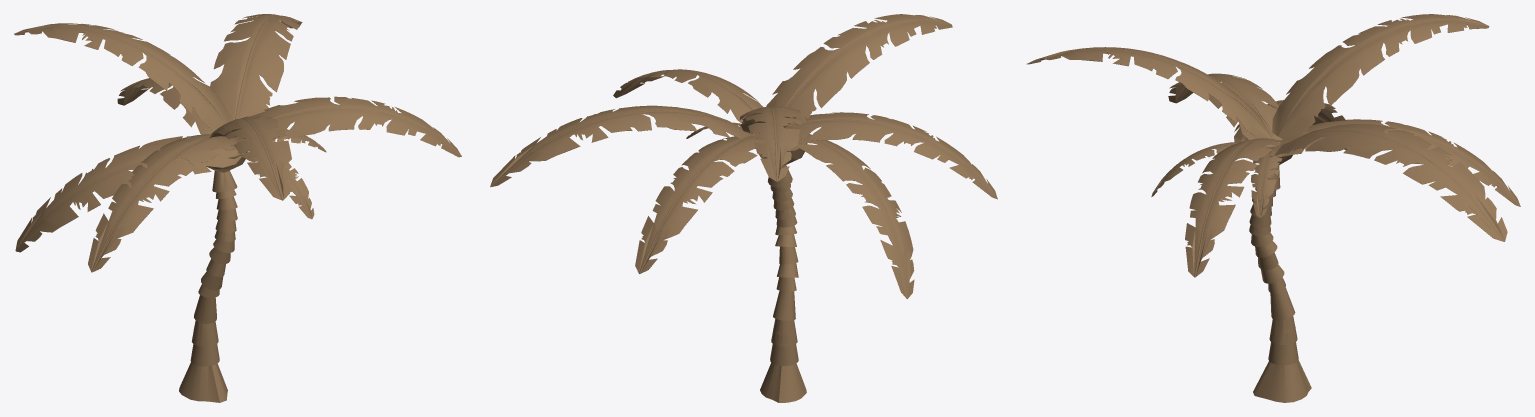
Rendered from Palma1.fbx.
The picture shows the model from 3 angles, left to right: view 1: azimuth 30°, elevation 25°; view 2: azimuth 150°, elevation 25°; view 3: azimuth 270°, elevation 25°; orthographic projection. The views are drawn at different scales.
Parts seen in each view (by area): view 1: Plam_1; view 2: Plam_1; view 3: Plam_1.
Part boxes in pixels (x1,y1,x2,y2): Plam_1: (14, 14, 461, 402); Plam_1: (490, 14, 997, 402); Plam_1: (1026, 14, 1520, 402).
Bounding box in the file's own units: 557 × 462 × 606.
